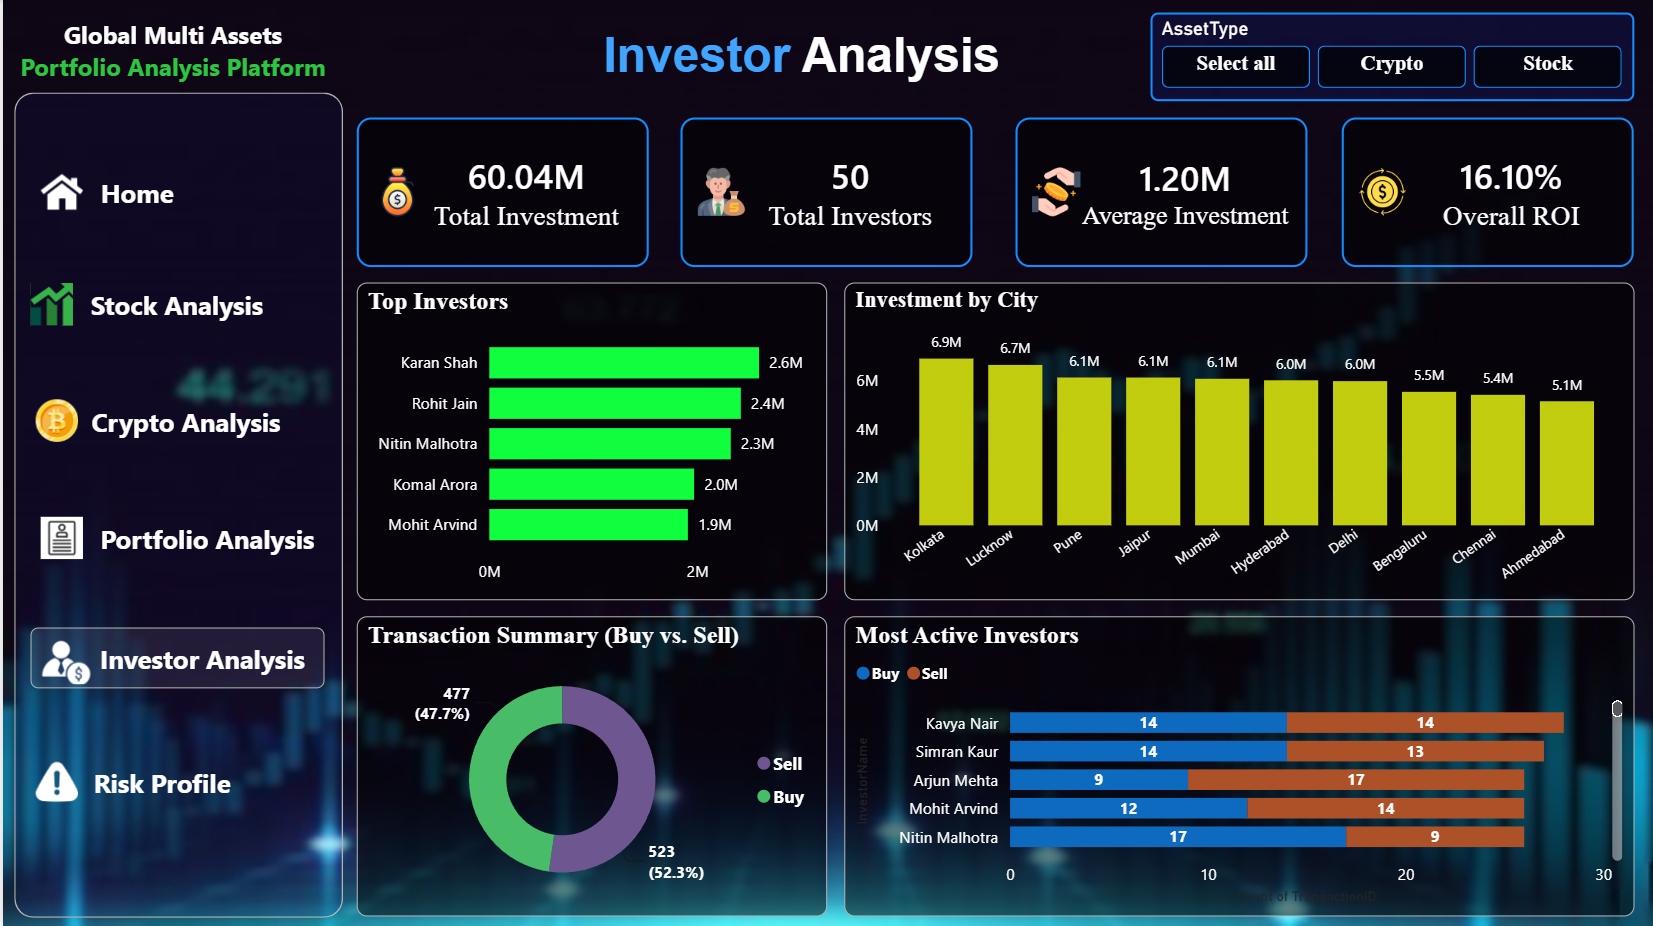

This screenshot's page, from the dashboard's own definition file:
{"tool":"powerbi","page":{"name":"Investor Analysis","canvas":[1280,720],"ordinal":4},"visuals":[{"type":"shape","box":[8.8,71.2,255,640],"z":0},{"type":"textbox","box":[0,10,263.8,72.5],"z":1000},{"type":"advancedSlicerVisual","fields":{"Values":["Dim_Assets.AssetType"]},"box":[889.6,9.4,375.2,68.6],"z":2000},{"type":"actionButton","box":[25,125,111.2,47.5],"z":2000,"group":"g1"},{"type":"actionButton","box":[21.7,302.7,228.1,48],"z":3000,"group":"g1"},{"type":"donutChart","title":"Transaction Summary (Buy vs. Sell)","fields":{"Category":["Dim_Transactions.BuySell"],"Y":["CountNonNull(Dim_Transactions.TransactionID)"]},"box":[274.4,477.9,365.1,232.6],"z":3000},{"type":"columnChart","title":"Investment by City","fields":{"Category":["Dim_Investors.City"],"Y":["Measure.Total Investment"]},"box":[652.3,218.6,612.8,246.5],"z":4000},{"type":"actionButton","box":[17.7,212,234.9,47.8],"z":5000,"group":"g1"},{"type":"barChart","title":"Most Active Investors","fields":{"Category":["Dim_Investors.InvestorName"],"Series":["Dim_Transactions.BuySell"],"Y":["CountNonNull(Dim_Transactions.TransactionID)"]},"box":[652.3,477.9,612.8,232.6],"z":5000},{"type":"barChart","title":"Top Investors","fields":{"Category":["Dim_Investors.InvestorName"],"Y":["Measure.Total Investment"]},"box":[274.4,218.6,365.1,246.5],"z":6000},{"type":"actionButton","box":[25,393.9,220.3,46.8],"z":6000,"group":"g1"},{"type":"group","id":"g1","title":"Group 1","box":[17.7,125,234.9,504.3],"z":7000},{"type":"cardVisual","fields":{"Data":["Measure.Total Investment"]},"box":[274.4,90.7,226.7,116.3],"z":8000},{"type":"actionButton","box":[21.7,486.4,228.1,46.8],"z":8000,"group":"g1"},{"type":"cardVisual","fields":{"Data":["Measure.Total Investor"]},"box":[525.6,90.7,226.7,116.3],"z":9000},{"type":"cardVisual","fields":{"Data":["Measure.Average Investor"]},"box":[784.9,90.7,226.7,116.3],"z":10000},{"type":"actionButton","box":[21.7,582.5,229.3,46.8],"z":10000,"group":"g1"},{"type":"cardVisual","fields":{"Data":["Measure.Overall ROI"]},"box":[1038.4,90.7,226.7,116.3],"z":11000},{"type":"textbox","box":[453.5,16.3,331.4,54.7],"z":12000}]}

Visuals, with their boxes in screenshot pixels (x1, y1, x2, y2), scaled from the page's 1280x720 canvas onto the 1653x926 screenshot:
shape: {"left": 11, "top": 92, "right": 341, "bottom": 915}
textbox: {"left": 0, "top": 13, "right": 341, "bottom": 106}
advancedSlicerVisual - Dim_Assets.AssetType: {"left": 1149, "top": 12, "right": 1633, "bottom": 100}
actionButton: {"left": 32, "top": 161, "right": 176, "bottom": 222}
actionButton: {"left": 28, "top": 389, "right": 323, "bottom": 451}
"Transaction Summary (Buy vs. Sell)" donutChart: {"left": 354, "top": 615, "right": 826, "bottom": 914}
"Investment by City" columnChart: {"left": 842, "top": 281, "right": 1634, "bottom": 598}
actionButton: {"left": 23, "top": 273, "right": 326, "bottom": 334}
"Most Active Investors" barChart: {"left": 842, "top": 615, "right": 1634, "bottom": 914}
"Top Investors" barChart: {"left": 354, "top": 281, "right": 826, "bottom": 598}
actionButton: {"left": 32, "top": 507, "right": 317, "bottom": 567}
"Group 1" group: {"left": 23, "top": 161, "right": 326, "bottom": 809}
cardVisual - Measure.Total Investment: {"left": 354, "top": 117, "right": 647, "bottom": 266}
actionButton: {"left": 28, "top": 626, "right": 323, "bottom": 686}
cardVisual - Measure.Total Investor: {"left": 679, "top": 117, "right": 972, "bottom": 266}
cardVisual - Measure.Average Investor: {"left": 1014, "top": 117, "right": 1306, "bottom": 266}
actionButton: {"left": 28, "top": 749, "right": 324, "bottom": 809}
cardVisual - Measure.Overall ROI: {"left": 1341, "top": 117, "right": 1634, "bottom": 266}
textbox: {"left": 586, "top": 21, "right": 1014, "bottom": 91}
